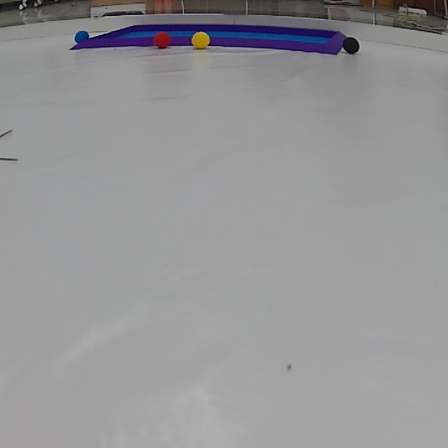black: (344, 37, 359, 55)
blue: (75, 27, 88, 46)
blue_aim: (79, 21, 345, 56)
red: (154, 33, 173, 50)
yellow: (191, 27, 214, 51)
